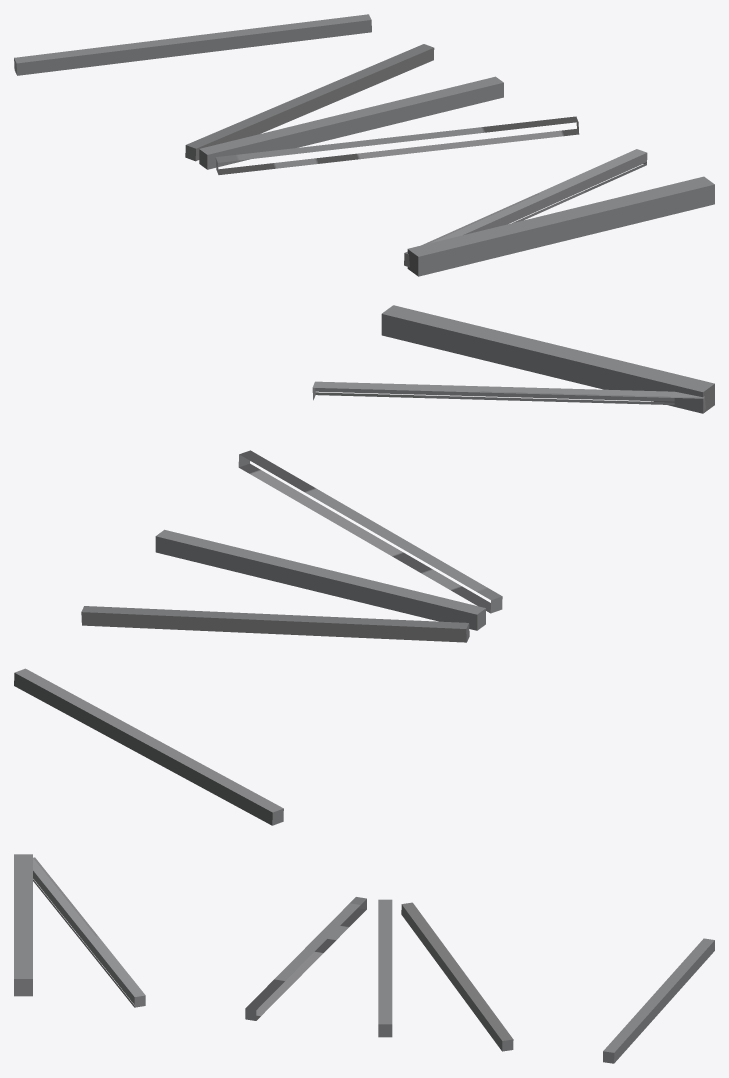
The picture shows the model from 3 angles, top to bottom: view 1: azimuth 30°, elevation 25°; view 2: azimuth 150°, elevation 25°; view 3: azimuth 270°, elevation 25°; orthographic projection. The views are drawn at different scales.
Size of the model in its own units: 1.02 by 0.358 by 2.37.
